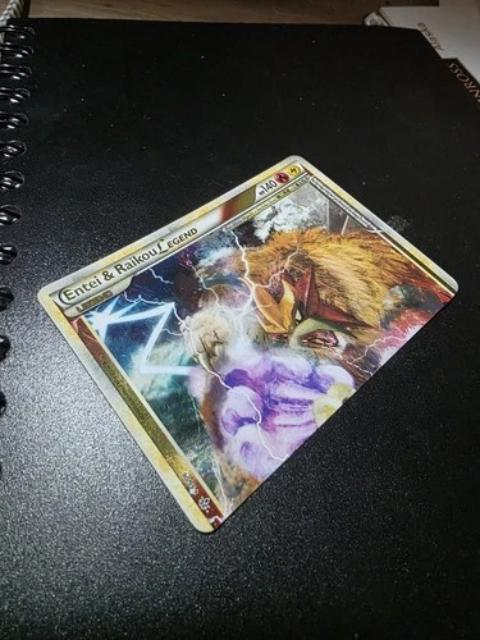Card: (34, 152, 461, 536)
Name: (53, 219, 206, 308)
